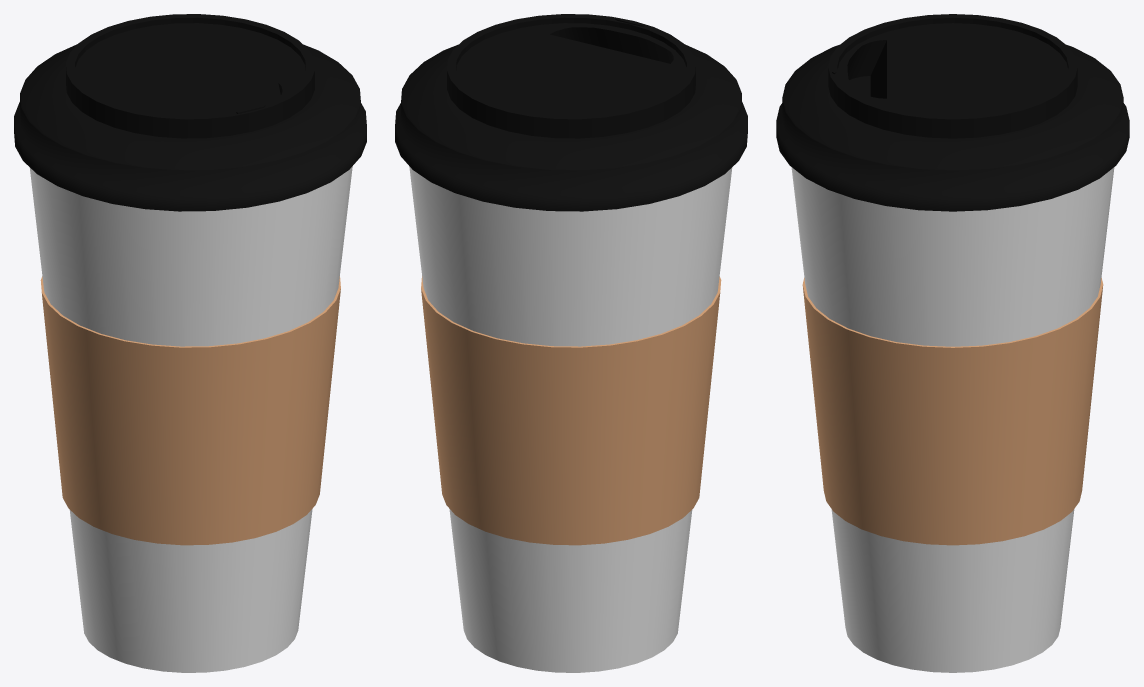
Rendered from coffee cup 3d model.fbx.
The picture shows the model from 3 angles, left to right: view 1: azimuth 30°, elevation 25°; view 2: azimuth 150°, elevation 25°; view 3: azimuth 270°, elevation 25°; orthographic projection.
Parts seen in each view (by area): view 1: Cylinder.002; view 2: Cylinder.002; view 3: Cylinder.002.
Part boxes in pixels (bbox=[...]): Cylinder.002: bbox=[14, 14, 366, 672]; Cylinder.002: bbox=[395, 14, 747, 672]; Cylinder.002: bbox=[776, 14, 1129, 672].
Size of the model in its own units: 417 by 731 by 417.
